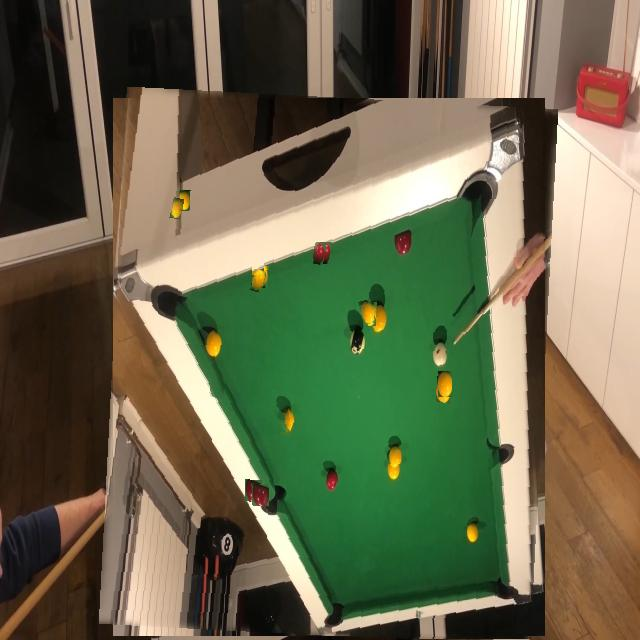Ball: (292, 380, 310, 408), (273, 404, 290, 432), (210, 372, 226, 398), (252, 484, 269, 506), (438, 371, 452, 397), (360, 300, 375, 324), (250, 270, 265, 292), (170, 198, 183, 219), (314, 243, 326, 265), (252, 258, 264, 275)
Billiard table: (106, 92, 551, 640)
